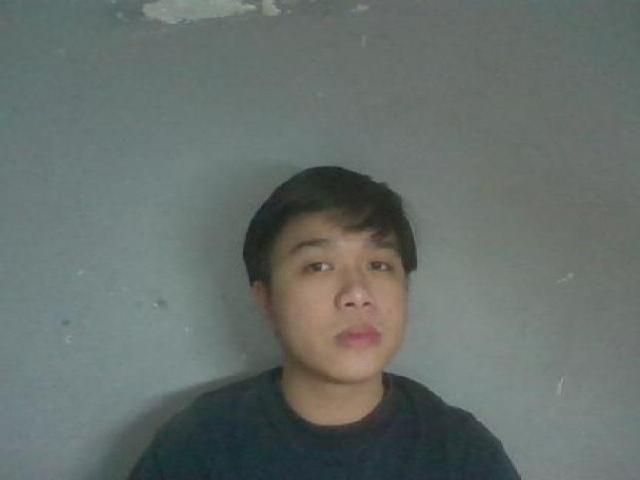eye_open: (292, 256, 340, 284), (361, 252, 398, 278)
face: (282, 234, 409, 378)
